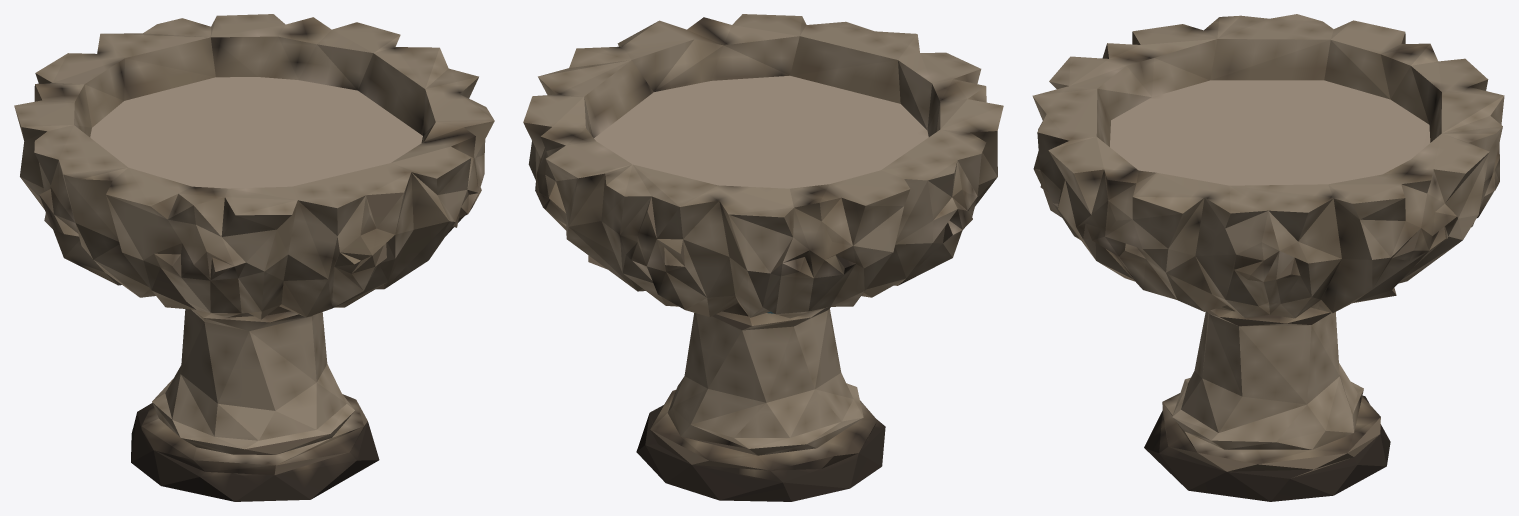
Rendered from SM_MeshyFont.fbx.
3 renders of one model, left to right at view 1: azimuth 30°, elevation 25°; view 2: azimuth 150°, elevation 25°; view 3: azimuth 270°, elevation 25°, orthographic.
Parts seen in each view (by area): view 1: SM_MeshyFont; view 2: SM_MeshyFont; view 3: SM_MeshyFont.
Part boxes in pixels (bbox=[...]): SM_MeshyFont: bbox=[14, 14, 494, 501]; SM_MeshyFont: bbox=[523, 14, 1003, 501]; SM_MeshyFont: bbox=[1032, 14, 1504, 501].
Size of the model in its own units: 1 by 0.7981 by 1.
Materials: 1 (1 with a texture image).
